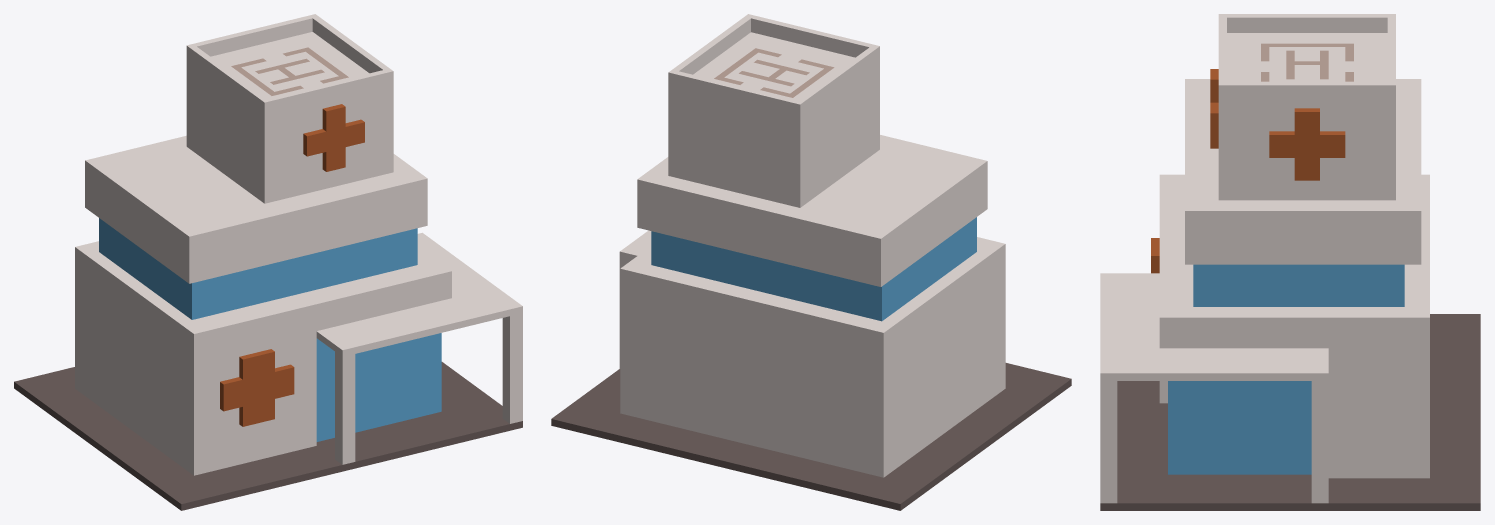
Rendered from Hospital-42.obj.
3 renders of one model, left to right at view 1: azimuth 30°, elevation 25°; view 2: azimuth 150°, elevation 25°; view 3: azimuth 270°, elevation 25°, orthographic. The views are drawn at different scales.
Bounding box in the file's own units: 5.3 × 5 × 4.5.
1 material, 1 textured.
